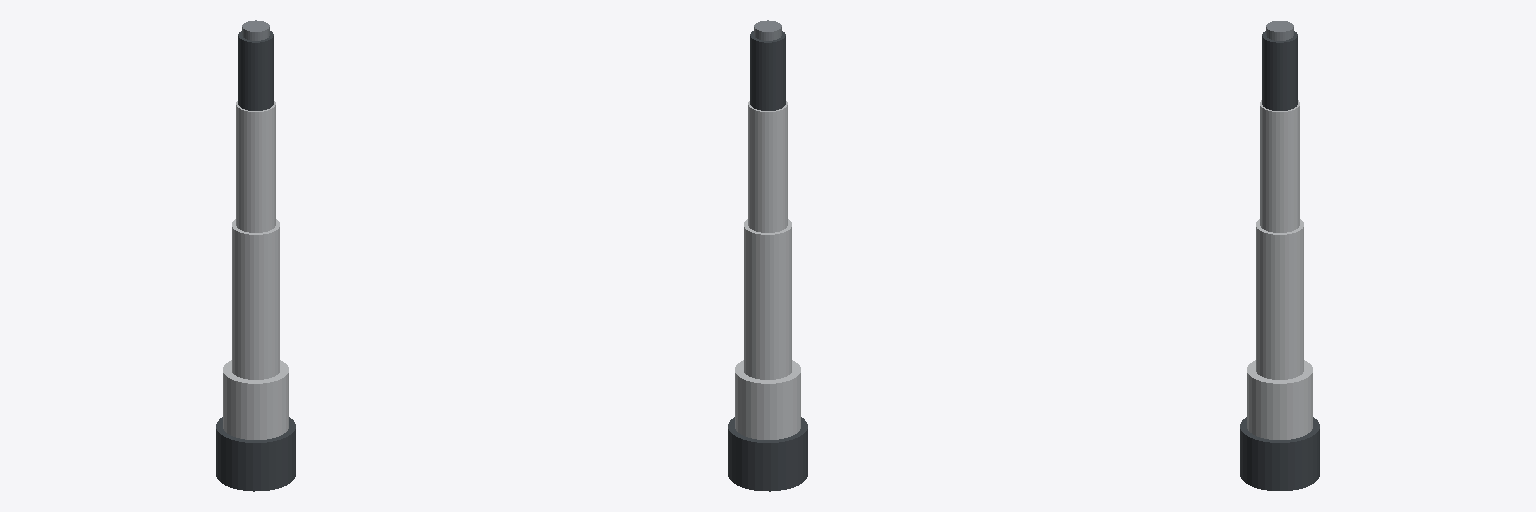
URDF robot description (placeholder_6dof):
<?xml version="1.0"?>
<!--
  Учебная заглушка: шестиосевой манипулятор из примитивов.

  Это НЕ модель PROMPOWER и не модель JAKA. Геометрия и пределы суставов
  выдуманы для отладки вьюера и намеренно круглые. Файл будет заменён целиком,
  когда придёт настоящий URDF от заказчика.

  Цвета заданы тремя именованными материалами (pp_base, pp_joint, pp_accent).
  Приложение перекрашивает их из палитры плагина, поэтому здесь нейтральный серый.
-->
<robot name="placeholder_6dof">

  <material name="pp_base"><color rgba="0.78 0.79 0.80 1.0"/></material>
  <material name="pp_joint"><color rgba="0.32 0.34 0.36 1.0"/></material>
  <material name="pp_accent"><color rgba="0.55 0.57 0.59 1.0"/></material>

  <link name="base_link">
    <visual>
      <origin xyz="0 0 0.06" rpy="0 0 0"/>
      <geometry><cylinder radius="0.090" length="0.120"/></geometry>
      <material name="pp_joint"/>
    </visual>
  </link>

  <joint name="joint_1" type="revolute">
    <parent link="base_link"/>
    <child link="link_1"/>
    <origin xyz="0 0 0.120" rpy="0 0 0"/>
    <axis xyz="0 0 1"/>
    <limit lower="-3.1416" upper="3.1416" effort="150" velocity="3.14"/>
  </joint>

  <link name="link_1">
    <visual>
      <origin xyz="0 0 0.070" rpy="0 0 0"/>
      <geometry><cylinder radius="0.075" length="0.140"/></geometry>
      <material name="pp_base"/>
    </visual>
  </link>

  <joint name="joint_2" type="revolute">
    <parent link="link_1"/>
    <child link="link_2"/>
    <origin xyz="0 0 0.140" rpy="0 0 0"/>
    <axis xyz="0 1 0"/>
    <limit lower="-1.9199" upper="1.9199" effort="150" velocity="3.14"/>
  </joint>

  <link name="link_2">
    <visual>
      <origin xyz="0 0 0.180" rpy="0 0 0"/>
      <geometry><cylinder radius="0.055" length="0.360"/></geometry>
      <material name="pp_base"/>
    </visual>
  </link>

  <joint name="joint_3" type="revolute">
    <parent link="link_2"/>
    <child link="link_3"/>
    <origin xyz="0 0 0.360" rpy="0 0 0"/>
    <axis xyz="0 1 0"/>
    <limit lower="-2.6180" upper="2.6180" effort="90" velocity="3.14"/>
  </joint>

  <link name="link_3">
    <visual>
      <origin xyz="0 0 0.150" rpy="0 0 0"/>
      <geometry><cylinder radius="0.045" length="0.300"/></geometry>
      <material name="pp_base"/>
    </visual>
  </link>

  <joint name="joint_4" type="revolute">
    <parent link="link_3"/>
    <child link="link_4"/>
    <origin xyz="0 0 0.300" rpy="0 0 0"/>
    <axis xyz="0 0 1"/>
    <limit lower="-3.1416" upper="3.1416" effort="40" velocity="6.28"/>
  </joint>

  <link name="link_4">
    <visual>
      <origin xyz="0 0 0.045" rpy="0 0 0"/>
      <geometry><cylinder radius="0.040" length="0.090"/></geometry>
      <material name="pp_joint"/>
    </visual>
  </link>

  <joint name="joint_5" type="revolute">
    <parent link="link_4"/>
    <child link="link_5"/>
    <origin xyz="0 0 0.090" rpy="0 0 0"/>
    <axis xyz="0 1 0"/>
    <limit lower="-2.0944" upper="2.0944" effort="40" velocity="6.28"/>
  </joint>

  <link name="link_5">
    <visual>
      <origin xyz="0 0 0.040" rpy="0 0 0"/>
      <geometry><cylinder radius="0.040" length="0.080"/></geometry>
      <material name="pp_joint"/>
    </visual>
  </link>

  <joint name="joint_6" type="revolute">
    <parent link="link_5"/>
    <child link="link_6"/>
    <origin xyz="0 0 0.080" rpy="0 0 0"/>
    <axis xyz="0 0 1"/>
    <limit lower="-6.2832" upper="6.2832" effort="40" velocity="6.28"/>
  </joint>

  <link name="link_6">
    <visual>
      <origin xyz="0 0 0.011" rpy="0 0 0"/>
      <geometry><cylinder radius="0.031" length="0.022"/></geometry>
      <material name="pp_accent"/>
    </visual>
  </link>

  <joint name="tool0_fixed" type="fixed">
    <parent link="link_6"/>
    <child link="tool0"/>
    <origin xyz="0 0 0.022" rpy="0 0 0"/>
  </joint>

  <link name="tool0"/>

</robot>

--- Render facts (derived) ---
3 views of the same robot in one strip: view 1: azimuth 30°, elevation 25°; view 2: azimuth 150°, elevation 25°; view 3: azimuth 270°, elevation 25° (orthographic).
Robot: placeholder_6dof — 8 links, 7 joints (6 revolute, 1 fixed); root link base_link; default pose: all joints at 0.
Visible links, largest first — view 1: link_2, link_3, base_link, link_1, link_4, link_5; view 2: link_2, link_3, base_link, link_1, link_4, link_5; view 3: link_2, link_3, base_link, link_1, link_4, link_5.
Link boxes in pixels (left/top/right/bottom): link_2: left=232, top=219, right=279, bottom=379; link_3: left=236, top=101, right=275, bottom=232; base_link: left=216, top=417, right=295, bottom=491; link_1: left=223, top=360, right=288, bottom=439; link_4: left=238, top=69, right=273, bottom=110; link_5: left=238, top=31, right=273, bottom=74; link_2: left=744, top=219, right=791, bottom=379; link_3: left=748, top=101, right=787, bottom=232; base_link: left=728, top=417, right=807, bottom=491; link_1: left=735, top=360, right=800, bottom=439; link_4: left=750, top=69, right=785, bottom=110; link_5: left=750, top=31, right=785, bottom=74; link_2: left=1256, top=219, right=1303, bottom=379; link_3: left=1260, top=100, right=1299, bottom=232; base_link: left=1240, top=417, right=1319, bottom=490; link_1: left=1247, top=360, right=1312, bottom=439; link_4: left=1262, top=69, right=1297, bottom=110; link_5: left=1262, top=31, right=1297, bottom=74.
Size in the robot's own frame: 0.18 by 0.18 by 1.11 metres.
Geometry: primitives only (box / cylinder / sphere), no mesh files.
